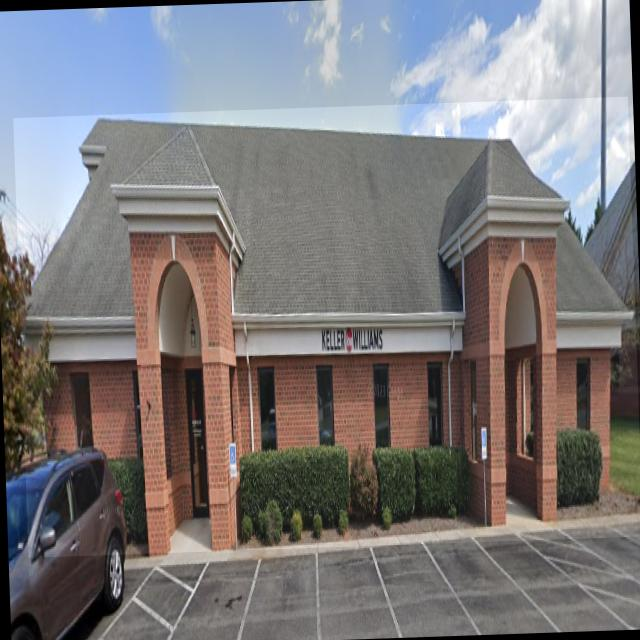House: (12, 96, 640, 557)
